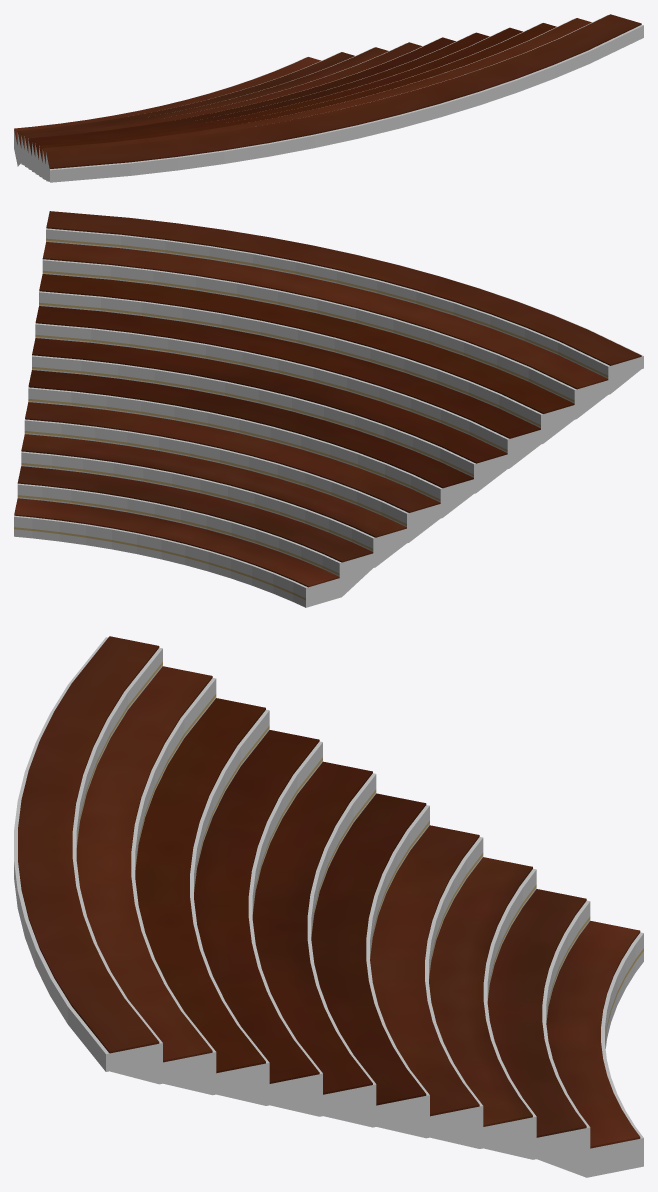
File: Escada_Centro_Auditorio_Principal.fbx
The picture shows the model from 3 angles, top to bottom: view 1: azimuth 30°, elevation 25°; view 2: azimuth 150°, elevation 25°; view 3: azimuth 270°, elevation 25°; orthographic projection. The views are drawn at different scales.
Visible parts, largest first — view 1: Escada_Centro_Auditorio_Principal; view 2: Escada_Centro_Auditorio_Principal; view 3: Escada_Centro_Auditorio_Principal.
Boxes of the visible parts, x1,y1,x2,y2 form: Escada_Centro_Auditorio_Principal: [14, 14, 643, 182]; Escada_Centro_Auditorio_Principal: [14, 211, 643, 607]; Escada_Centro_Auditorio_Principal: [14, 636, 643, 1177].
Size of the model in its own units: 2520 by 620 by 1609.
